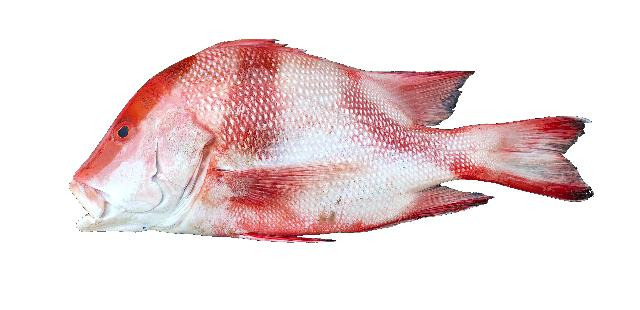Mulut: (43, 158, 123, 250)
Sirip Anal: (358, 177, 500, 236)
Sirip Dada: (196, 150, 378, 220)
Sirip Ekor: (458, 98, 614, 224)
Sirip Perut: (215, 210, 348, 266)
Sirip Punggung: (209, 24, 481, 136)
